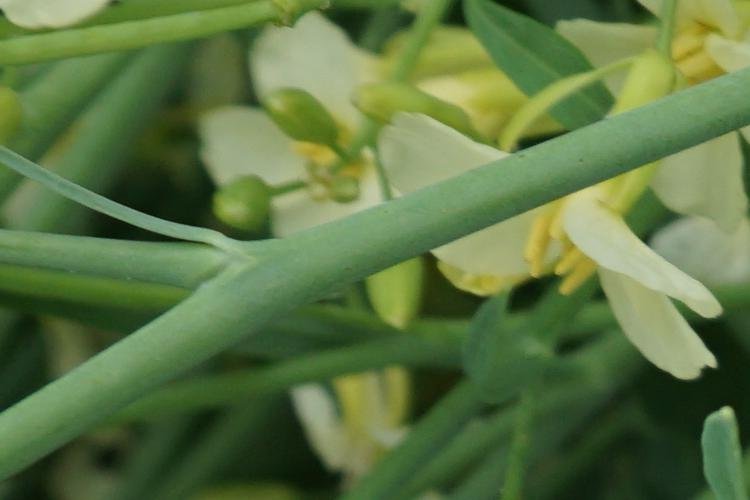bud: (251, 74, 340, 160), (354, 78, 480, 138), (205, 168, 287, 238), (315, 168, 379, 216)
white: (406, 48, 720, 383)
